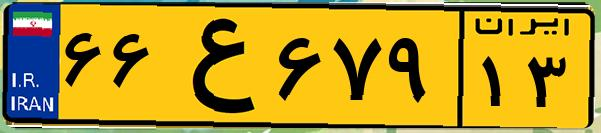1: (475, 38, 525, 113)
3: (525, 38, 570, 115)
6: (270, 28, 330, 110), (57, 26, 110, 100), (110, 28, 158, 98)
7: (330, 28, 385, 110)
9: (385, 28, 445, 110)
ع: (158, 12, 270, 120)
